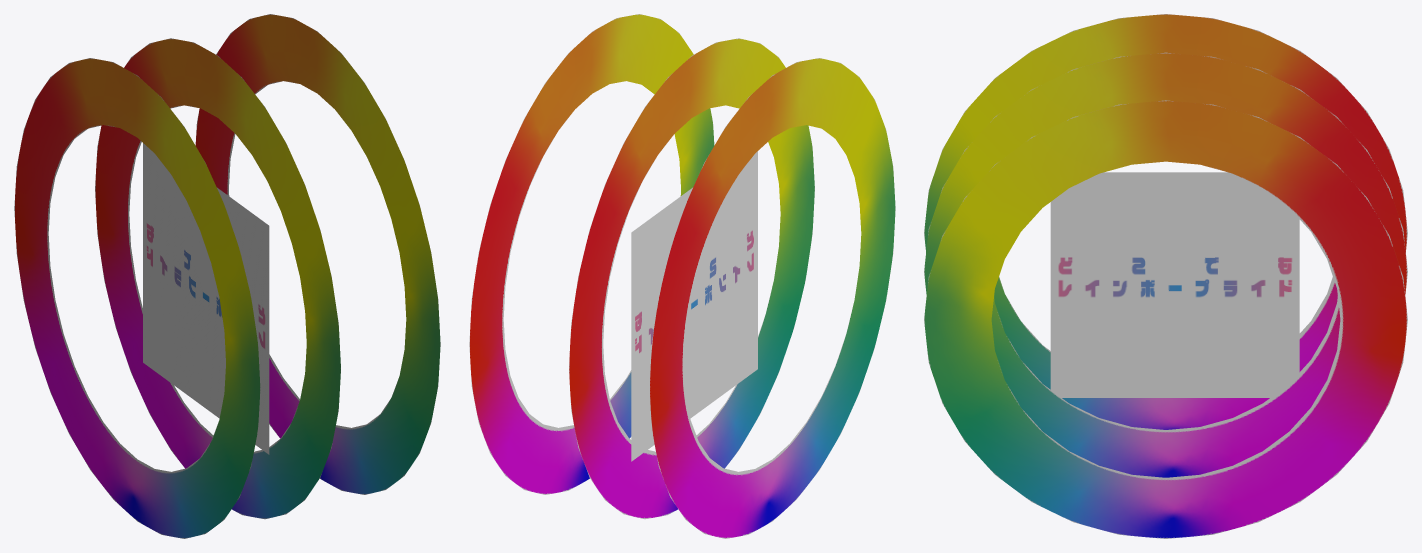
The model's file is RainbowAtHome.gltf.
The picture shows the model from 3 angles, left to right: view 1: azimuth 30°, elevation 25°; view 2: azimuth 150°, elevation 25°; view 3: azimuth 270°, elevation 25°; orthographic projection.
Parts seen in each view (by area): view 1: Sphere.003, Sphere, Sphere.002, Plane.003; view 2: Sphere.003, Sphere, Sphere.002, Plane.003; view 3: Sphere.002, Plane.003, Sphere, Sphere.003.
Boxes of the visible parts, x1,y1,x2,y2 form: Sphere.003: (14,58,260,538); Sphere: (95,38,340,519); Sphere.002: (195,14,440,494); Plane.003: (143,143,269,454); Sphere.003: (649,58,895,538); Sphere: (569,38,814,519); Sphere.002: (469,14,714,494); Plane.003: (631,151,757,461); Sphere.002: (924,100,1407,538); Plane.003: (1050,172,1299,397); Sphere: (924,52,1407,477); Sphere.003: (924,14,1407,429).
Bounding box in the file's own units: 0.4111 × 0.9724 × 0.9724.
3 materials, 3 textured.
